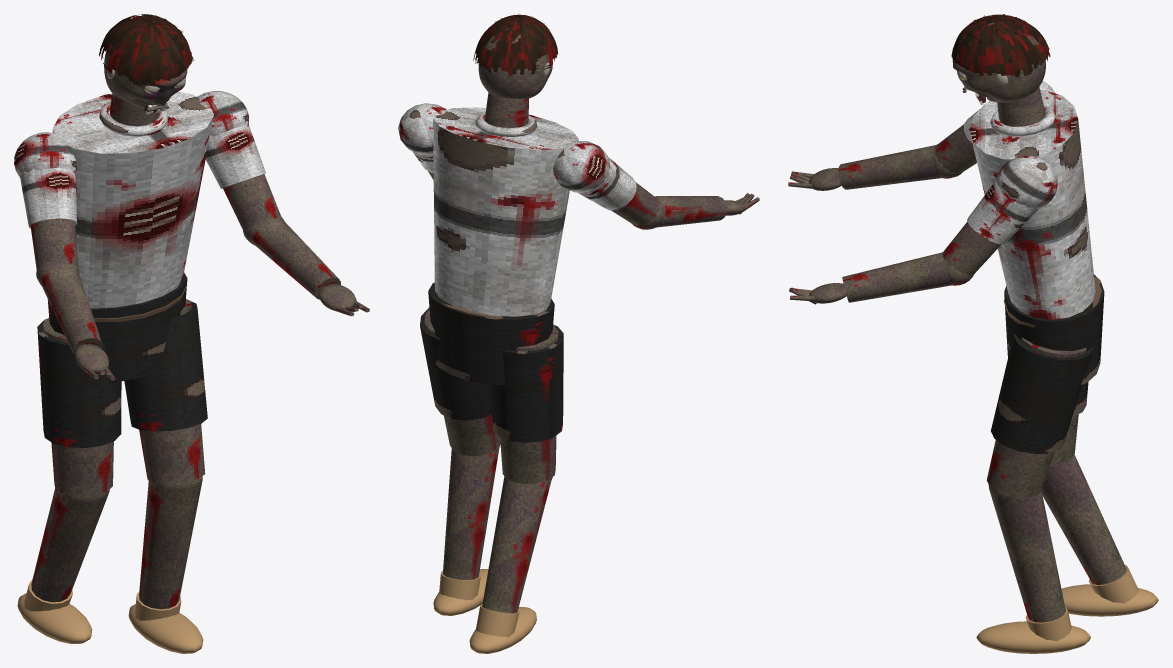
The model's file is Zombie_131.glb.
3 renders of one model, left to right at view 1: azimuth 30°, elevation 25°; view 2: azimuth 150°, elevation 25°; view 3: azimuth 270°, elevation 25°, orthographic. The views are drawn at different scales.
Visible parts, largest first — view 1: Zombie_131, object 42, object 10, object 3, object 16, object 11, object 4; view 2: Zombie_131, object 42, object 16, object 3; view 3: Zombie_131, object 42, object 10, object 3, object 16, object 11, object 4.
Part boxes in pixels (x1,y1,x2,y2): Zombie_131: [14, 91, 281, 653]; object 42: [99, 14, 191, 85]; object 10: [251, 218, 340, 299]; object 3: [40, 265, 102, 354]; object 16: [104, 51, 187, 107]; object 11: [318, 284, 356, 310]; object 4: [75, 344, 108, 370]; Zombie_131: [398, 92, 659, 653]; object 42: [473, 14, 557, 73]; object 16: [478, 22, 552, 99]; object 3: [654, 196, 727, 227]; Zombie_131: [935, 81, 1158, 653]; object 42: [951, 14, 1050, 74]; object 10: [842, 252, 951, 302]; object 3: [838, 145, 942, 189]; object 16: [952, 22, 1045, 102]; object 11: [809, 283, 846, 303]; object 4: [808, 168, 841, 190].
Bounding box in the file's own units: 0.7782 × 1.73 × 0.9436.
Materials: 16 (6 with a texture image).
